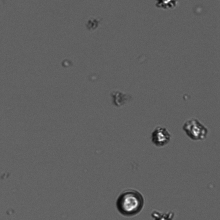Living Cell: (114, 188, 146, 216), (182, 117, 209, 141), (149, 125, 171, 146), (156, 1, 177, 9)
